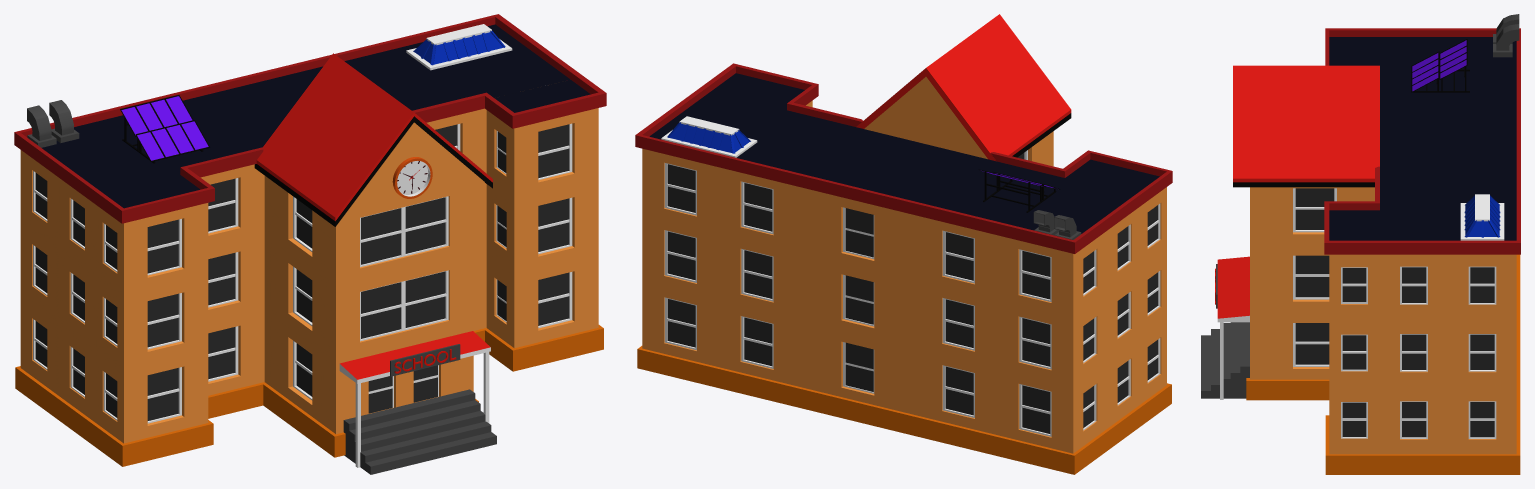
File: School.fbx
3 views of the same model, side by side, from view 1: azimuth 30°, elevation 25°; view 2: azimuth 150°, elevation 25°; view 3: azimuth 270°, elevation 25° (orthographic). The views are drawn at different scales.
Visible parts, largest first — view 1: Plane.223; view 2: Plane.223; view 3: Plane.223.
Part boxes in pixels (bbox=[...]): Plane.223: bbox=[14, 14, 606, 474]; Plane.223: bbox=[635, 14, 1172, 474]; Plane.223: bbox=[1201, 14, 1520, 474].
Size of the model in its own units: 1641 by 1084 by 1033.
